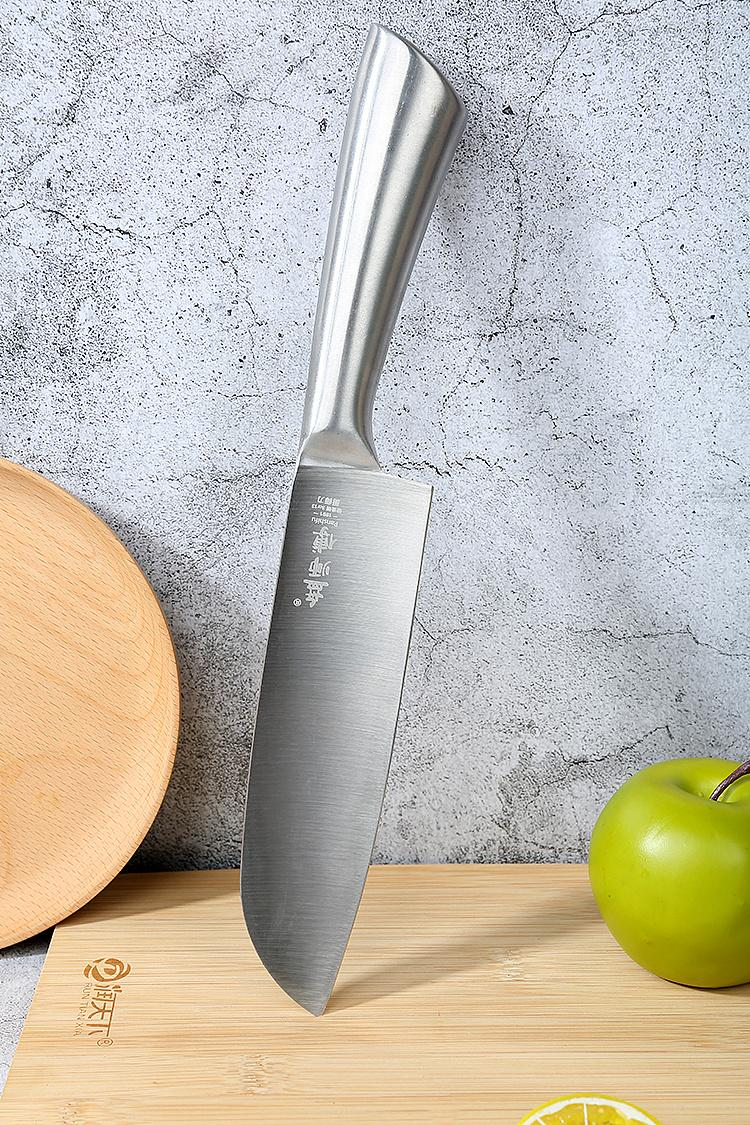knife: (236, 20, 499, 1016)
